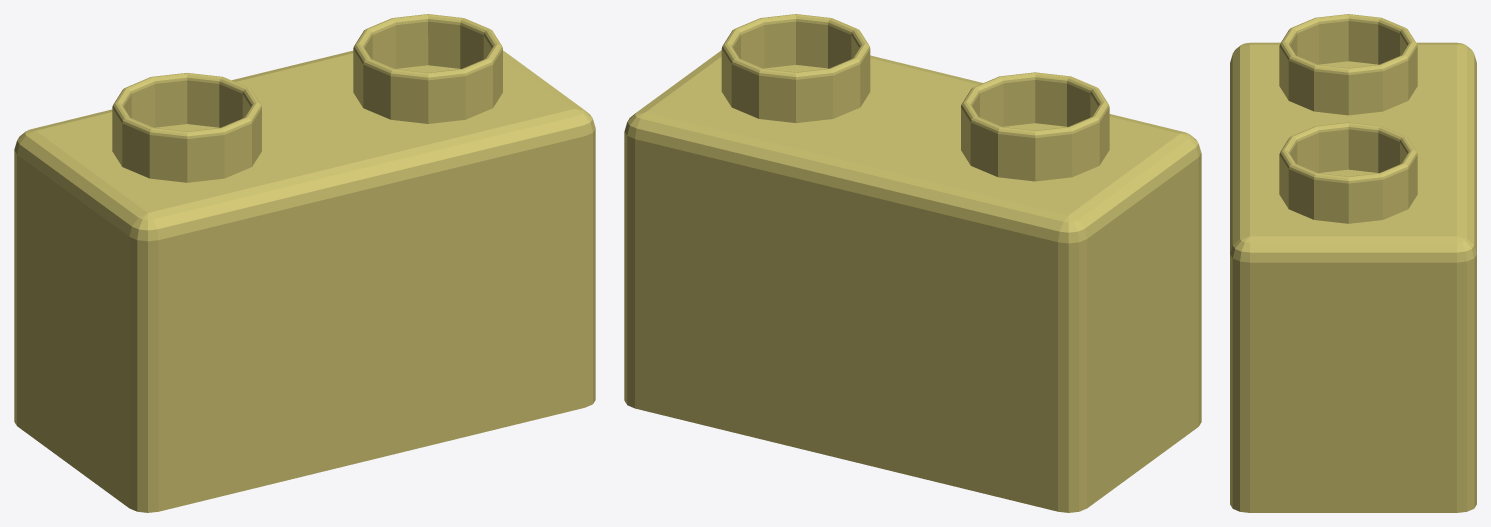
3 views of the same model, side by side, from view 1: azimuth 30°, elevation 25°; view 2: azimuth 150°, elevation 25°; view 3: azimuth 270°, elevation 25° (orthographic). The views are drawn at different scales.
Visible parts, largest first — view 1: block06; view 2: block06; view 3: block06.
Part boxes in pixels (left/top/right/bottom): block06: left=14, top=14, right=595, bottom=512; block06: left=624, top=14, right=1201, bottom=512; block06: left=1230, top=14, right=1476, bottom=512.
Size of the model in its own units: 250 by 175 by 125.
